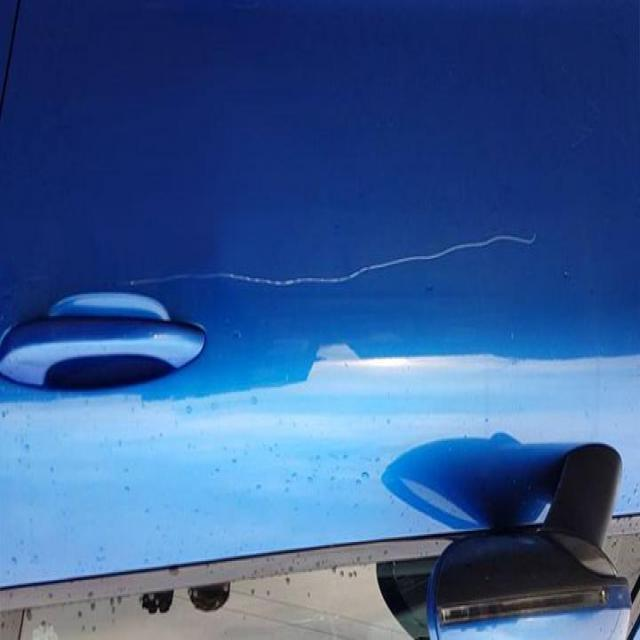scratch: (115, 224, 552, 314)
